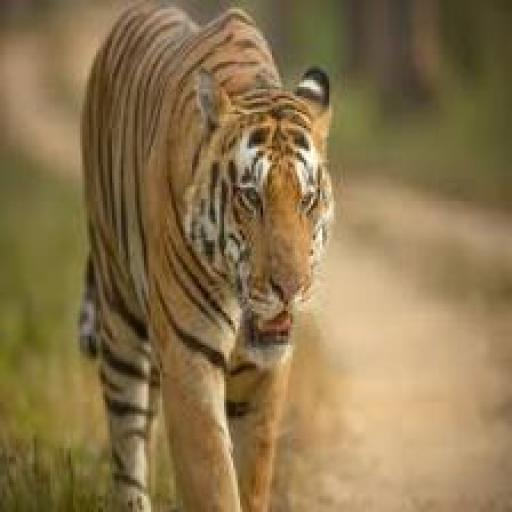Tiger: (64, 0, 350, 512)
